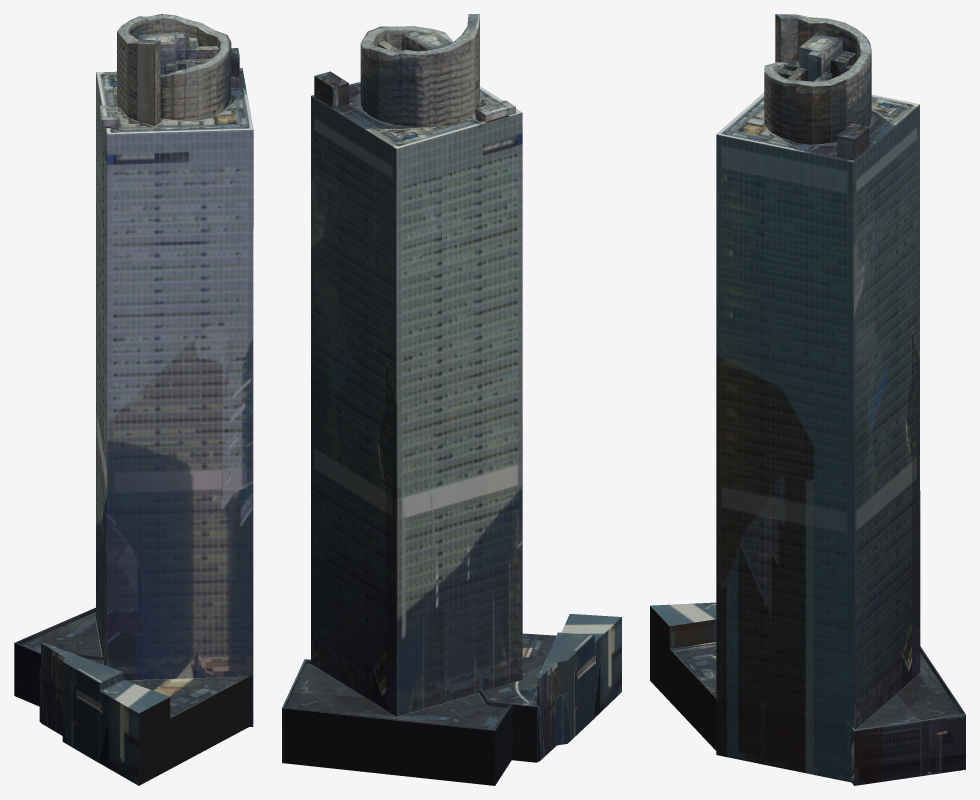
The picture shows the model from 3 angles, left to right: view 1: azimuth 30°, elevation 25°; view 2: azimuth 150°, elevation 25°; view 3: azimuth 270°, elevation 25°; orthographic projection. The views are drawn at different scales.
Parts seen in each view (by area): view 1: 10_0.glb; view 2: 10_0.glb; view 3: 10_0.glb.
Part boxes in pixels (x1,y1,x2,y2): 10_0.glb: (14,14,253,785); 10_0.glb: (282,14,621,785); 10_0.glb: (650,14,965,785).
Bounding box in the file's own units: 71.04 × 210 × 85.25.
1 material, 1 textured.
